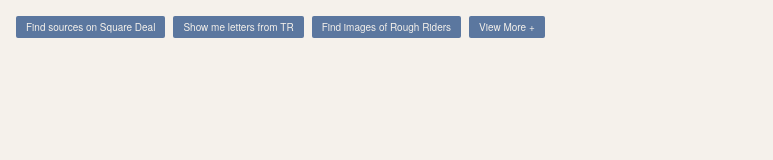
Test: PromptBar › interaction › shows all prompts when View More is clicked
Click the button "View More +": (507, 27) [469,16,545,38]
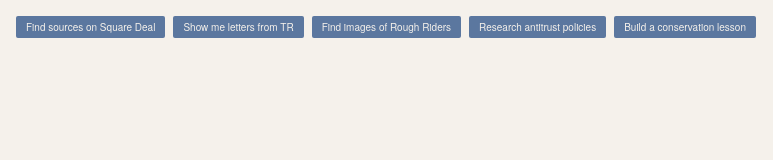
Expected: the button "Research antitrust policies" is shown, [469,16,606,38]
Expected: the button "Build a conservation lesson" is shown, [614,16,756,38]
